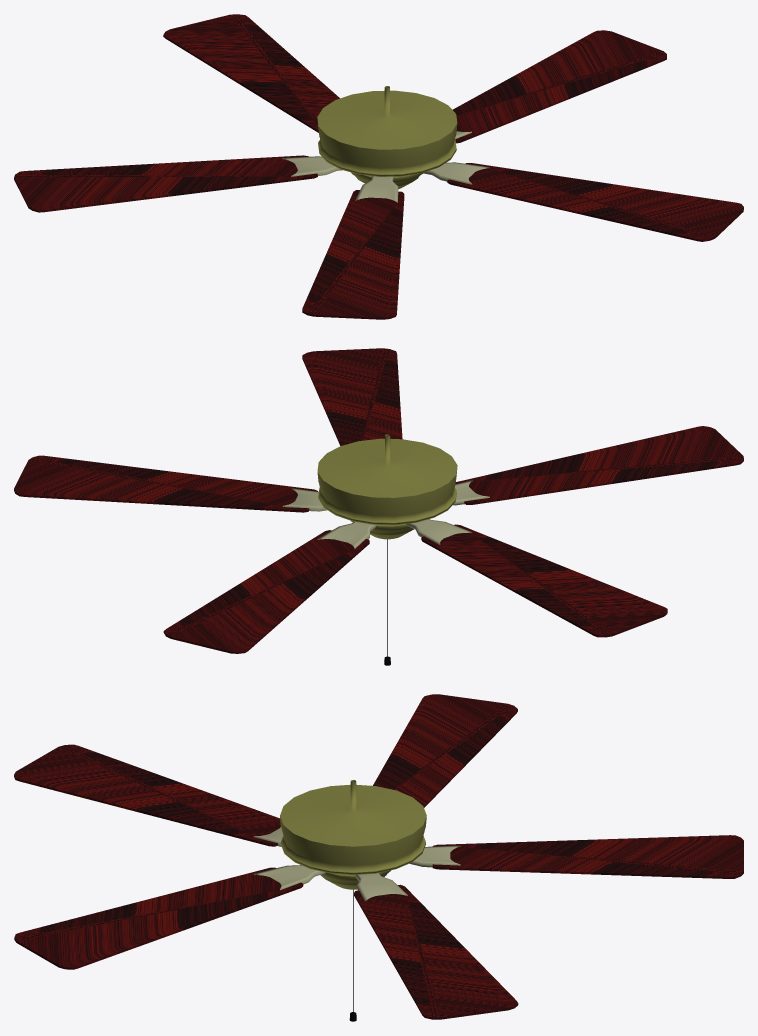
File: fan.obj
3 renders of one model, top to bottom at view 1: azimuth 30°, elevation 25°; view 2: azimuth 150°, elevation 25°; view 3: azimuth 270°, elevation 25°, orthographic. The views are drawn at different scales.
Visible parts, largest first — view 1: pSphere1, pCube9, pCube11, pCube10, pCube12, pCube13, pCube6, pCube5, pCube4; view 2: pSphere1, pCube12, pCube10, pCube9, pCube13, pCube11, pCube4, pCube8, pCube7; view 3: pSphere1, pCube13, pCube11, pCube10, pCube12, pCube9, pCube6, pCube7, pCube8.
Part boxes in pixels (bbox=[...]): pSphere1: bbox=[317, 86, 457, 189]; pCube9: bbox=[14, 155, 317, 212]; pCube11: bbox=[447, 163, 743, 241]; pCube10: bbox=[302, 190, 404, 319]; pCube12: bbox=[452, 30, 666, 143]; pCube13: bbox=[163, 14, 339, 132]; pCube6: bbox=[422, 162, 489, 184]; pCube5: bbox=[355, 176, 398, 202]; pCube4: bbox=[282, 156, 342, 176]; pSphere1: bbox=[317, 434, 457, 539]; pCube12: bbox=[14, 455, 317, 512]; pCube10: bbox=[455, 426, 743, 504]; pCube9: bbox=[421, 524, 667, 637]; pCube13: bbox=[163, 530, 369, 653]; pCube11: bbox=[302, 348, 402, 445]; pCube4: bbox=[406, 519, 472, 544]; pCube8: bbox=[317, 521, 377, 548]; pCube7: bbox=[282, 488, 327, 511]; pSphere1: bbox=[280, 780, 426, 889]; pCube13: bbox=[432, 835, 743, 878]; pCube11: bbox=[14, 867, 303, 969]; pCube10: bbox=[14, 744, 280, 846]; pCube12: bbox=[354, 884, 518, 1019]; pCube9: bbox=[373, 694, 517, 807]; pCube6: bbox=[253, 865, 325, 890]; pCube7: bbox=[355, 873, 407, 901]; pCube8: bbox=[409, 845, 460, 867].
Bounding box in the file's own units: 36.83 × 12.69 × 35.13.
4 materials, 1 textured.
